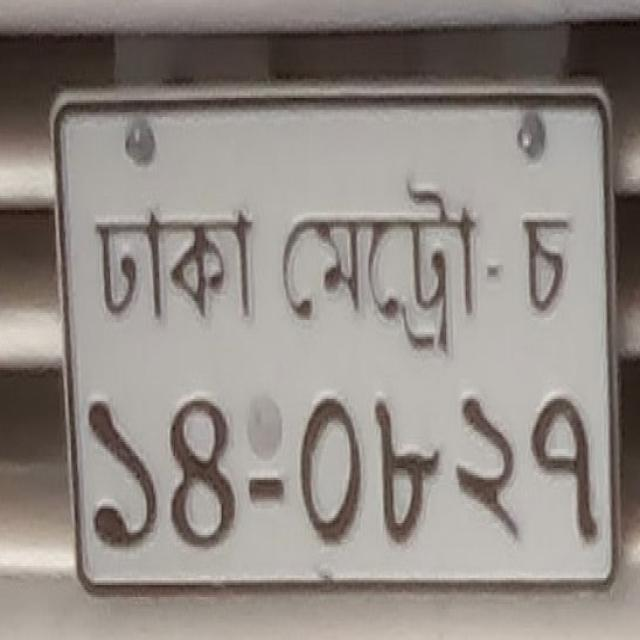numberplate: (48, 76, 619, 592)
